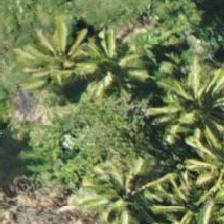coconut_tree: (19, 12, 109, 102), (69, 12, 159, 102), (81, 149, 171, 223), (151, 52, 223, 142)
